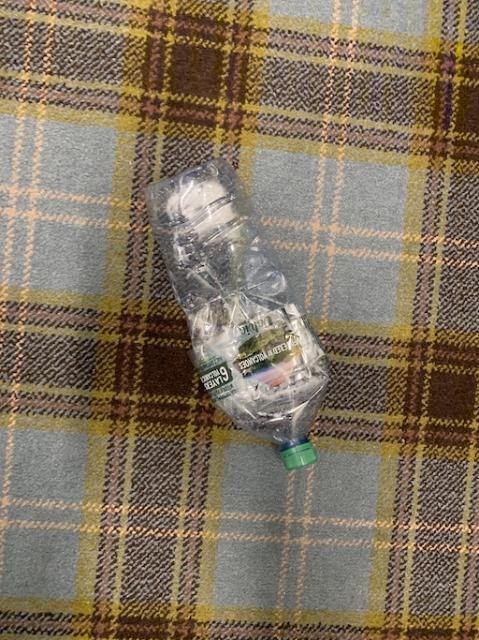plastic: (145, 158, 327, 469)
